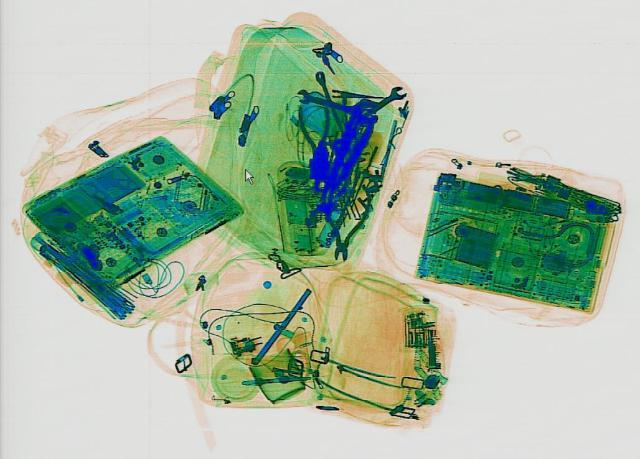Pliers: (316, 182, 372, 261), (296, 105, 334, 159)
Wrench: (291, 87, 359, 116), (356, 83, 408, 118)
